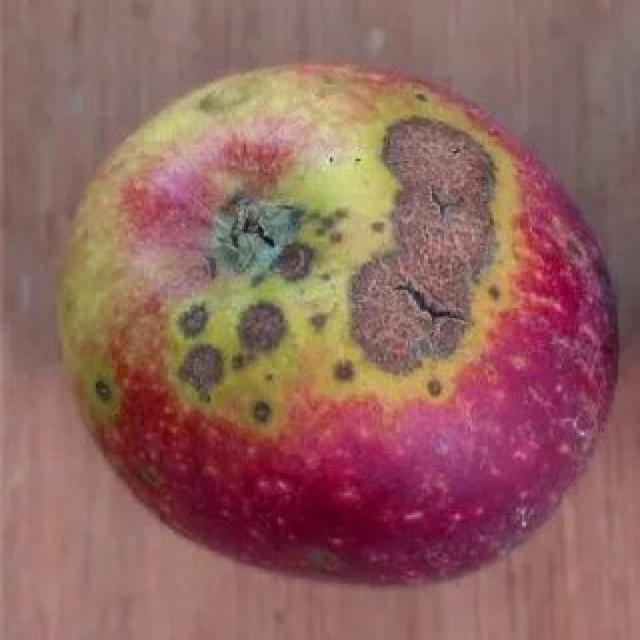Rotten: (56, 54, 616, 602)
